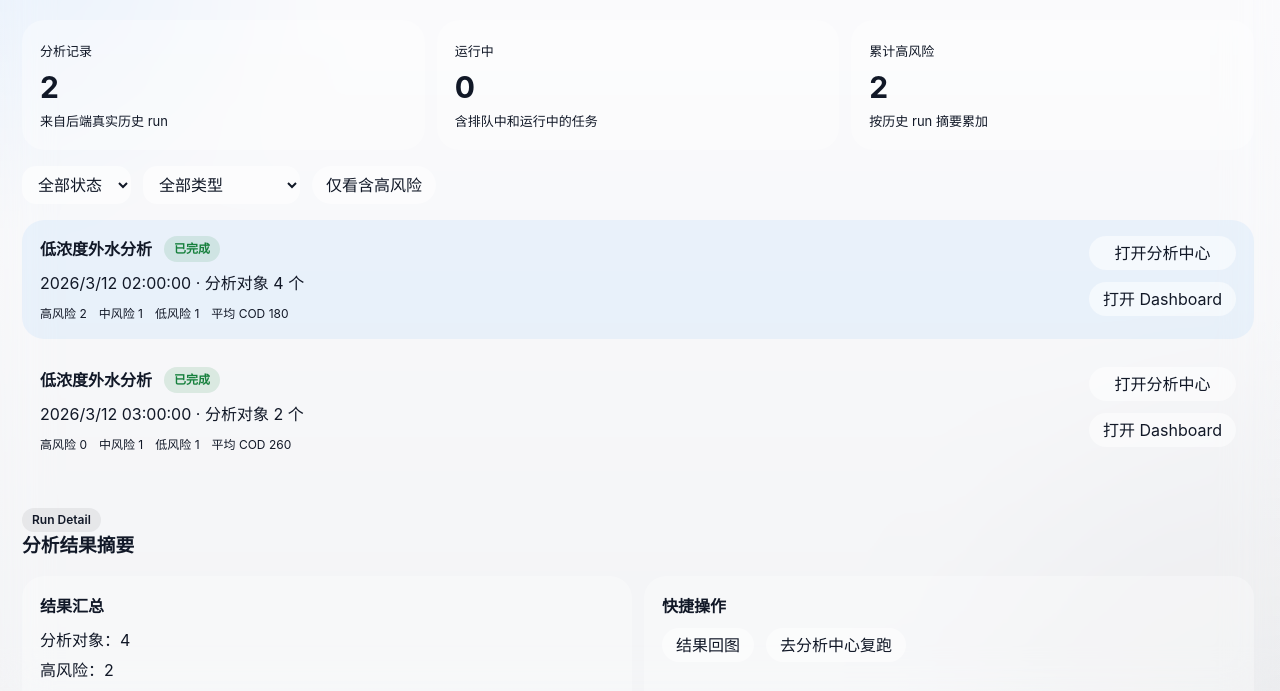
Test case: admin console smoke tests › renders analysis management with detail snapshot and url state
Click the button "仅看含高风险" at (374, 185), box [312,166,436,204]
(page scrolled)
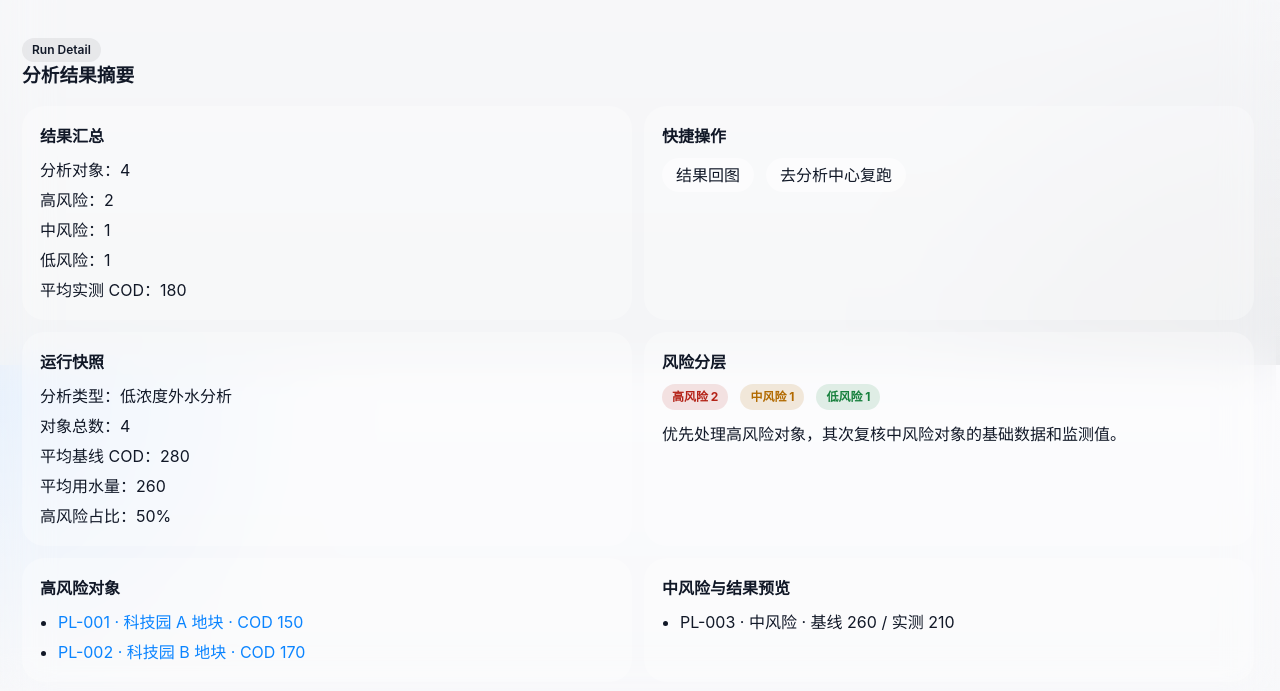
Expected: the text "高风险占比：50%" is shown, [40,506,171,526]
Expected: the button "高风险 0" is gone
